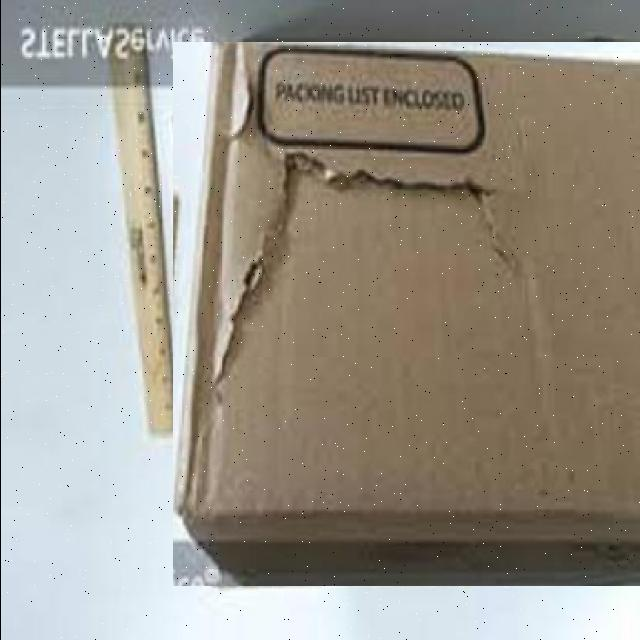defect: (172, 42, 640, 586)
